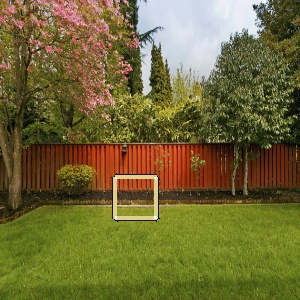square: (109, 171, 162, 224)
